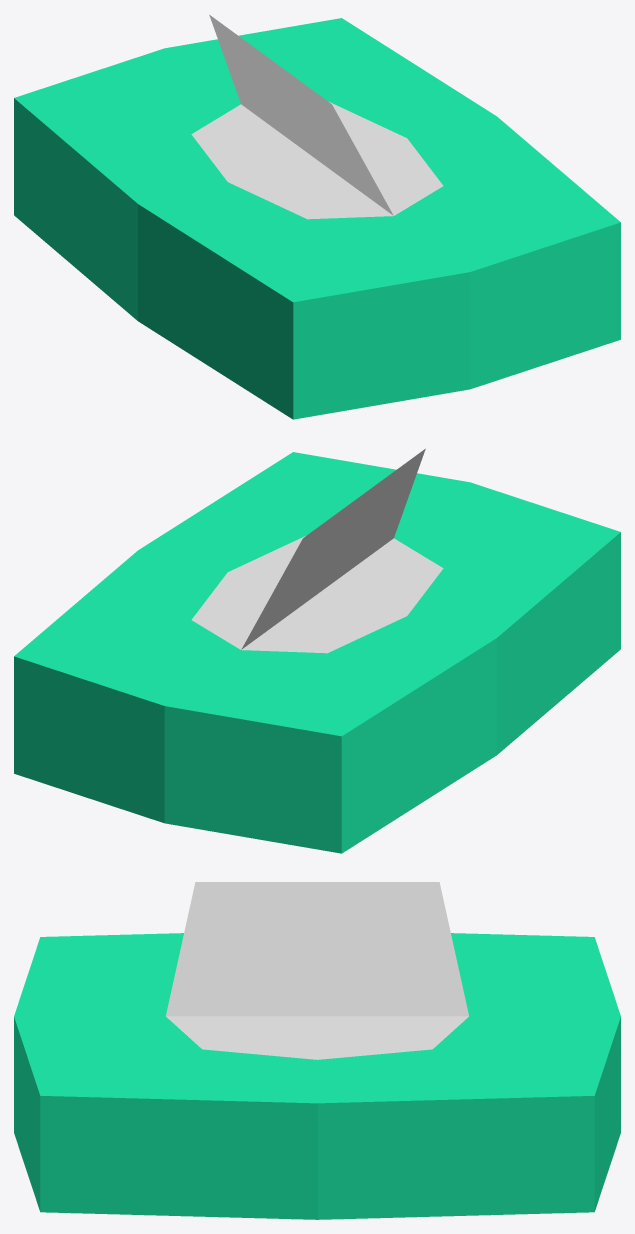
The model's file is Bedroom_Prop_TissueBox.fbx.
3 renders of one model, top to bottom at view 1: azimuth 30°, elevation 25°; view 2: azimuth 150°, elevation 25°; view 3: azimuth 270°, elevation 25°, orthographic.
Parts seen in each view (by area): view 1: Cube.009; view 2: Cube.009; view 3: Cube.009.
Boxes of the visible parts, box(x1,y1,x2,y2) form: Cube.009: box(14, 14, 620, 419); Cube.009: box(14, 448, 620, 853); Cube.009: box(14, 882, 620, 1219).
Size of the model in its own units: 51.69 by 31.6 by 76.24.
